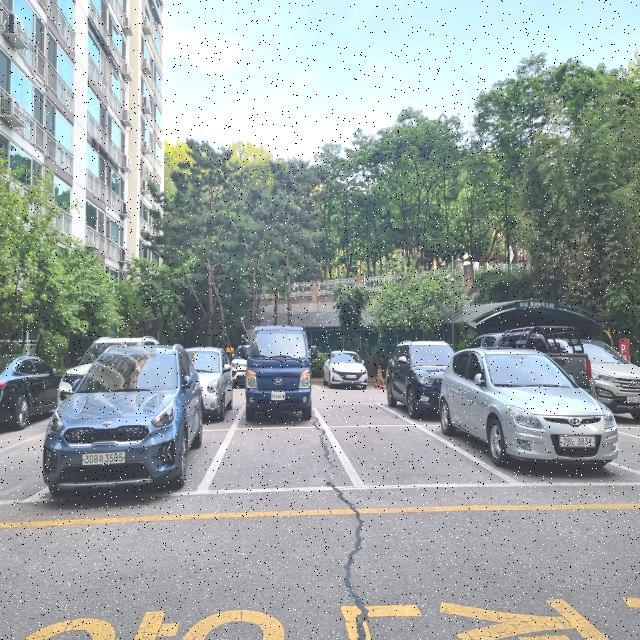empty: (216, 418, 346, 496), (335, 420, 455, 492), (310, 394, 406, 426)
occupied: (46, 344, 215, 508), (460, 346, 624, 466), (236, 325, 320, 431), (384, 338, 480, 426), (322, 346, 372, 389)
